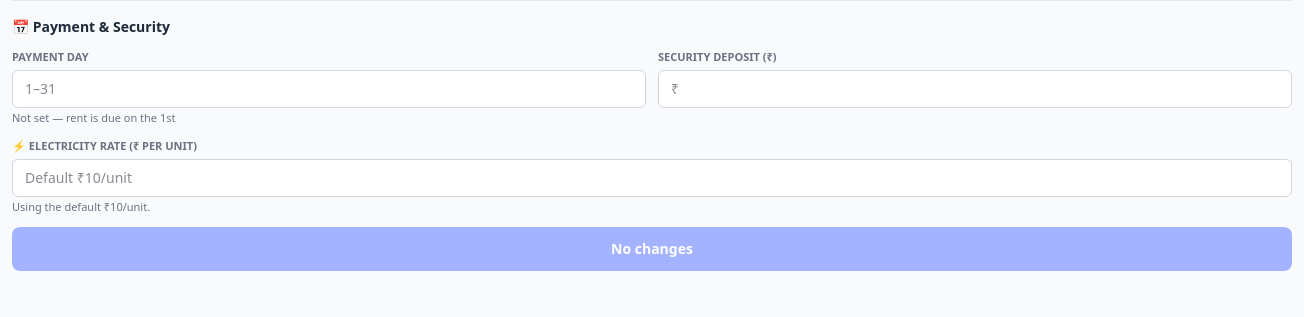
Test: ProfileBillingForm › blocks saving an invalid payment day
Type "40" into the number field labelled "Payment day" at (329, 88), box [12,70,646,108]
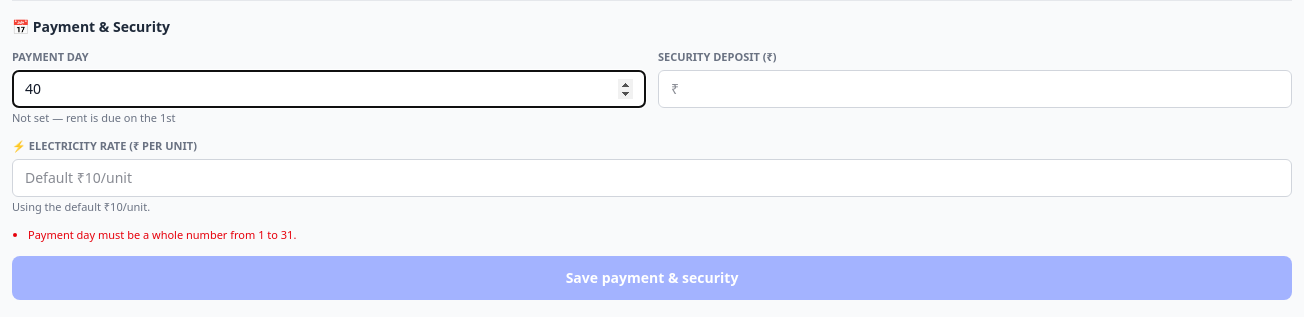
Expected: the button "Save payment & security" is disabled, [12,256,1292,300]
Expected: the list item "Payment day must be a whole number from 1 to 31." is shown, [28,227,296,242]
